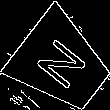N_SE: (31, 33, 93, 95)
